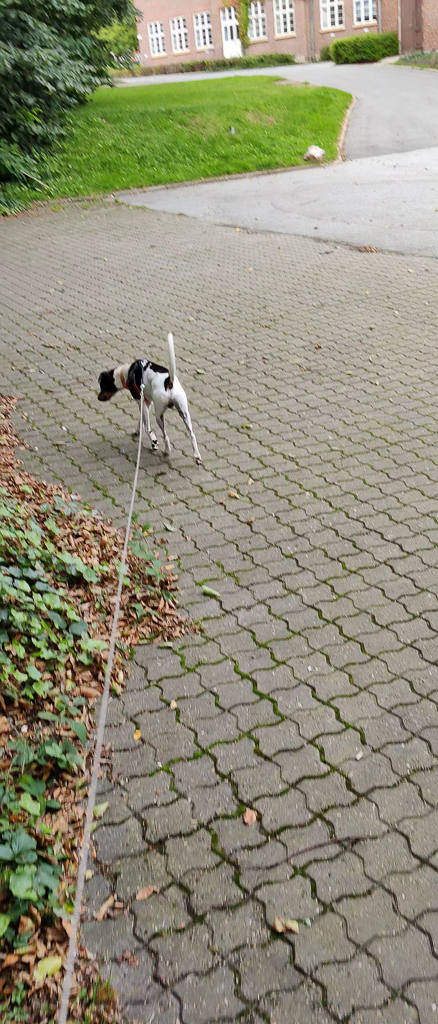Dog: (87, 323, 220, 473)
